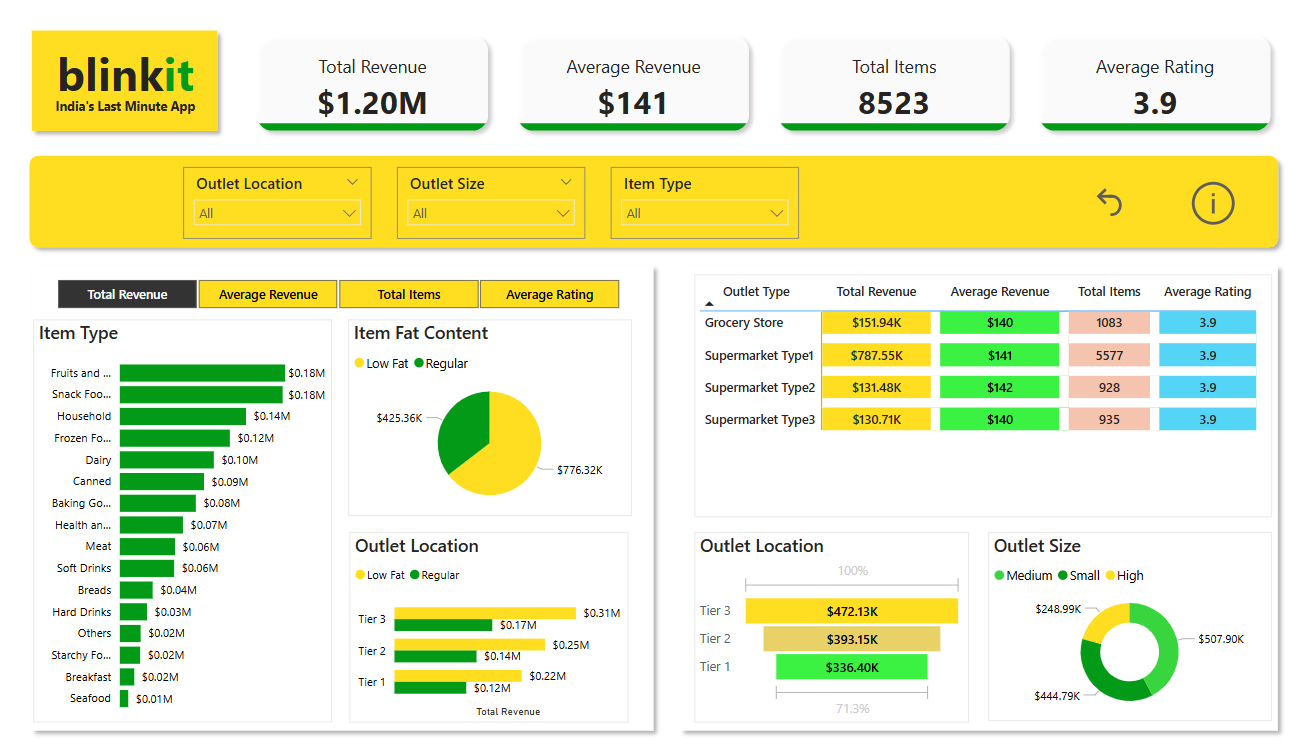

Layout of this report page (visuals, bound fields, positions):
{"tool":"powerbi","page":{"name":"Overview","canvas":[1400,800],"ordinal":0},"visuals":[{"type":"shape","box":[32.9,31.4,214.3,124.3],"z":0},{"type":"textbox","box":[56.8,47.3,168.8,89.9],"z":1000},{"type":"textbox","box":[61.5,107.3,168.8,30],"z":2000},{"type":"cardVisual","fields":{"Data":["Measure Table.Total Revenue","Measure Table.Average Revenue","Measure Table.Total Items","Measure Table.Average Rating"]},"box":[262.9,28.6,1107.1,135.7],"z":3000},{"type":"shape","box":[30.1,164.1,1339.7,115.2],"z":4000},{"type":"shape","box":[32.9,280,675.7,510],"z":5000},{"type":"shape","box":[720,280,650,510],"z":6000},{"type":"pieChart","title":" Item Fat Content","fields":{"Y":["Measure Table.Total Revenue"],"Category":["BlinkIT Grocery Data.Item Fat Content"]},"box":[377.1,347.2,299.8,208.3],"z":7000},{"type":"slicer","fields":{"Values":["Metrics.Metrics"]},"box":[44.2,298.2,643.8,44.2],"z":8000},{"type":"clusteredBarChart","title":" Outlet Location ","fields":{"Y":["Measure Table.Total Revenue"],"Category":["BlinkIT Grocery Data.Outlet Location Type"],"Series":["BlinkIT Grocery Data.Item Fat Content"]},"box":[378.7,571.2,295.1,202],"z":9000},{"type":"barChart","title":"Item Type","fields":{"Y":["Measure Table.Total Revenue"],"Category":["BlinkIT Grocery Data.Item Type"]},"box":[44.2,347.2,315.6,426.1],"z":10000},{"type":"donutChart","title":"Outlet Size","fields":{"Y":["Measure Table.Total Revenue"],"Category":["BlinkIT Grocery Data.Outlet Size"]},"box":[1054.3,571.4,300,200],"z":11000},{"type":"funnel","title":"Outlet Location","fields":{"Y":["Measure Table.Total Revenue"],"Category":["BlinkIT Grocery Data.Outlet Location Type"]},"box":[743.2,571.2,290.4,202],"z":12000},{"type":"pivotTable","title":"Outlet Type","fields":{"Rows":["BlinkIT Grocery Data.Outlet Type"],"Values":["Measure Table.Total Revenue","Measure Table.Average Revenue","Measure Table.Total Items","Measure Table.Average Rating"]},"box":[743.4,305.6,611.1,256.6],"z":13000},{"type":"slicer","fields":{"Values":["BlinkIT Grocery Data.Outlet Location Type"]},"box":[202,184.6,198.8,75.7],"z":14000},{"type":"slicer","fields":{"Values":["BlinkIT Grocery Data.Outlet Size"]},"box":[428.4,184.6,198.8,75.7],"z":15000},{"type":"slicer","fields":{"Values":["BlinkIT Grocery Data.Item Type"]},"box":[654.9,184.6,198.8,75.7],"z":16000},{"type":"textbox","box":[56.9,206.4,113.8,37],"z":17000},{"type":"shape","box":[161.4,214.3,27.8,19.8],"z":18000},{"type":"actionButton","box":[1251.3,185.2,87.3,75.4],"z":19000}]}

Visuals, with their boxes in screenshot pixels (x1, y1, x2, y2), scaled from the page's 1400x800 canvas onto the 1304x740 screenshot:
shape: 31:29:230:144
textbox: 53:44:210:127
textbox: 57:99:215:127
cardVisual - Measure Table.Total Revenue x Measure Table.Average Revenue: 245:26:1276:152
shape: 28:152:1276:258
shape: 31:259:660:731
shape: 671:259:1276:731
" Item Fat Content" pieChart: 351:321:630:514
slicer - Metrics.Metrics: 41:276:641:317
" Outlet Location " clusteredBarChart: 353:528:628:715
"Item Type" barChart: 41:321:335:715
"Outlet Size" donutChart: 982:529:1261:714
"Outlet Location" funnel: 692:528:963:715
"Outlet Type" pivotTable: 692:283:1262:520
slicer - BlinkIT Grocery Data.Outlet Location Type: 188:171:373:241
slicer - BlinkIT Grocery Data.Outlet Size: 399:171:584:241
slicer - BlinkIT Grocery Data.Item Type: 610:171:795:241
textbox: 53:191:159:225
shape: 150:198:176:217
actionButton: 1165:171:1247:241
